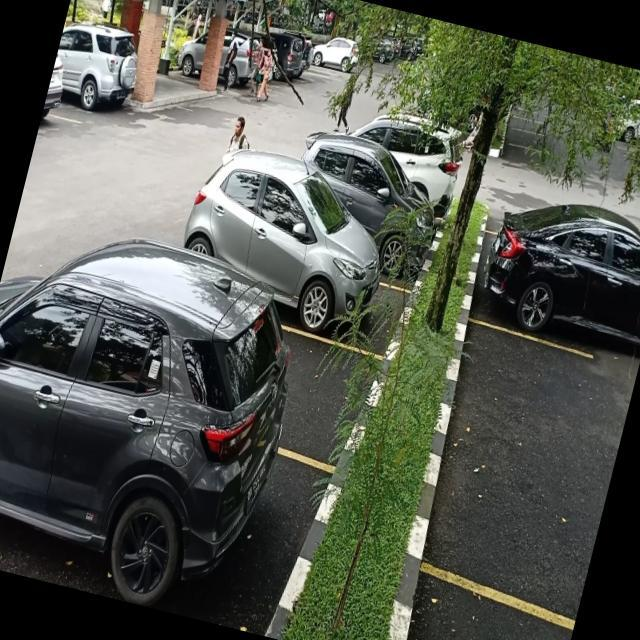empty: (410, 319, 640, 622)
occupied: (466, 224, 640, 367), (260, 224, 394, 355)
